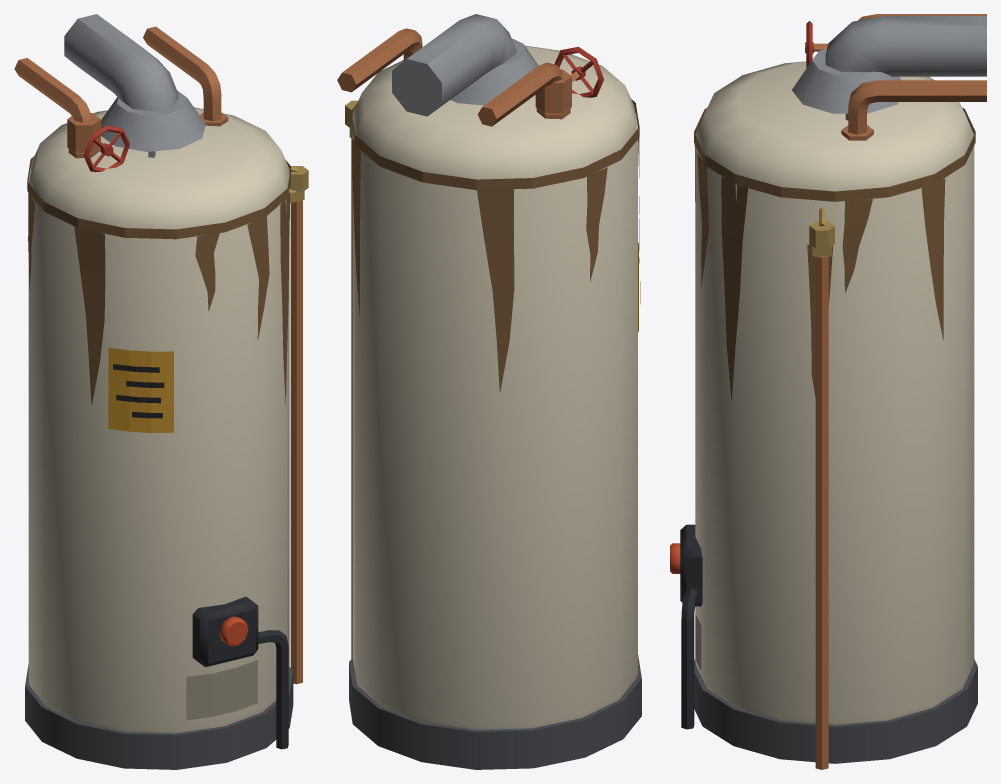
Rendered from Basement_WaterHeater.fbx.
3 views of the same model, side by side, from view 1: azimuth 30°, elevation 25°; view 2: azimuth 150°, elevation 25°; view 3: azimuth 270°, elevation 25° (orthographic). The views are drawn at different scales.
Visible parts, largest first — view 1: Jacket, Copper, Vent, Rust, BaseRing, Control, Plate, BurnerPanel, Valve, PlateInk, Knob, Brass; view 2: Jacket, BaseRing, Rust, Vent, Copper, Valve; view 3: Jacket, Rust, Vent, Copper, BaseRing, Control, Brass.
Part boxes in pixels (bbox=[...]): Jacket: bbox=[28, 107, 289, 733]; Copper: bbox=[14, 26, 302, 684]; Vent: bbox=[64, 14, 205, 157]; Rust: bbox=[27, 156, 290, 405]; BaseRing: bbox=[25, 664, 293, 769]; Control: bbox=[192, 596, 288, 749]; Plate: bbox=[108, 347, 173, 432]; BurnerPanel: bbox=[186, 659, 257, 720]; Valve: bbox=[83, 125, 130, 172]; PlateInk: bbox=[113, 364, 164, 418]; Knob: bbox=[219, 616, 248, 646]; Brass: bbox=[289, 166, 308, 203]; Jacket: bbox=[352, 45, 637, 729]; BaseRing: bbox=[349, 655, 641, 769]; Rust: bbox=[351, 99, 640, 391]; Vent: bbox=[392, 14, 538, 116]; Copper: bbox=[337, 28, 579, 658]; Valve: bbox=[554, 46, 603, 97]; Jacket: bbox=[695, 61, 974, 724]; Rust: bbox=[694, 108, 975, 399]; Vent: bbox=[792, 16, 986, 120]; Copper: bbox=[814, 14, 986, 769]; BaseRing: bbox=[694, 659, 977, 763]; Control: bbox=[680, 524, 702, 729]; Brass: bbox=[809, 208, 834, 256].
Size of the model in its own units: 249 by 594 by 250.
